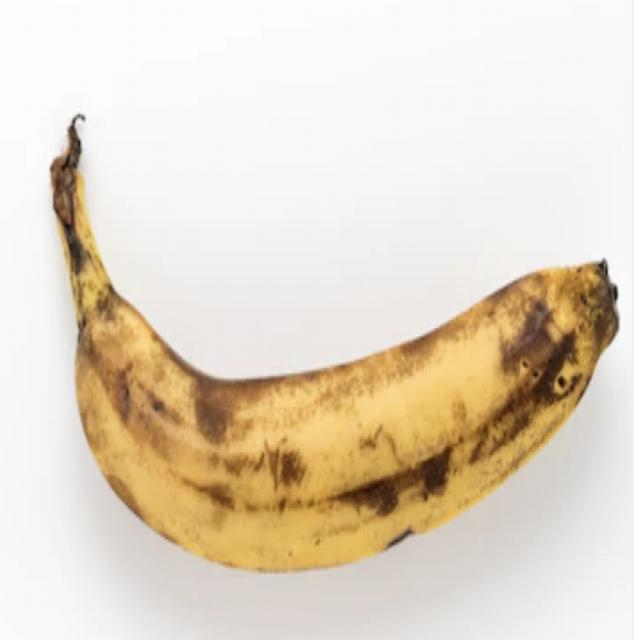rotten-banana: (50, 120, 619, 580)
